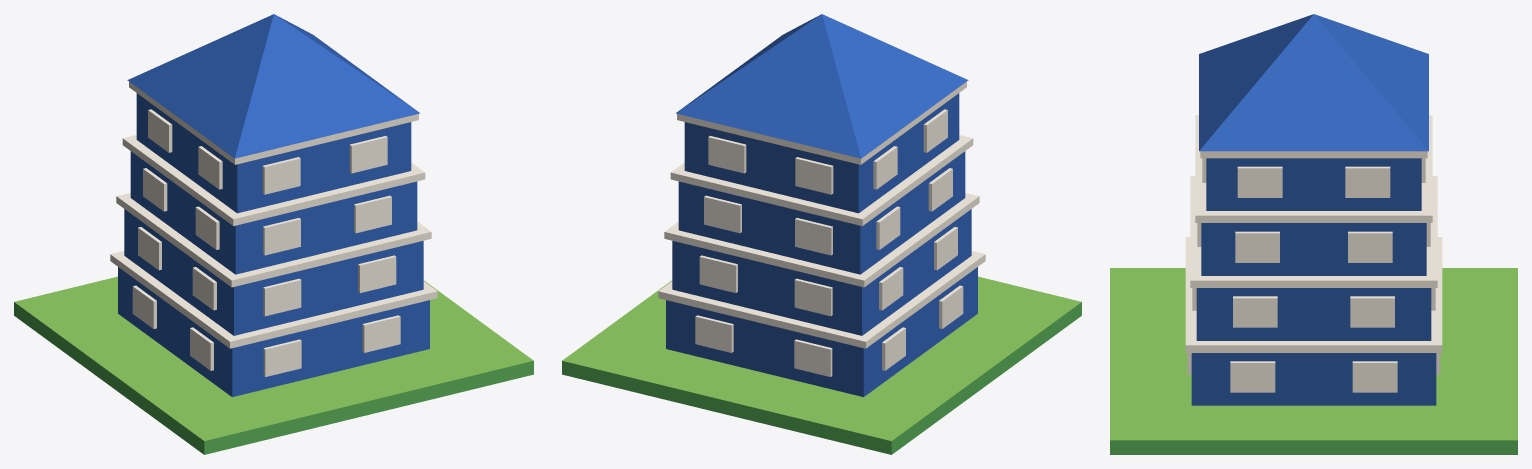
Rendered from skill_multiply_tower_t2.glb.
The picture shows the model from 3 angles, left to right: view 1: azimuth 30°, elevation 25°; view 2: azimuth 150°, elevation 25°; view 3: azimuth 270°, elevation 25°; orthographic projection. The views are drawn at different scales.
Parts seen in each view (by area): view 1: base, roof, floor_1, floor_2, floor_3, floor_4; view 2: base, roof, floor_1, floor_2, floor_3, floor_4; view 3: base, roof, floor_1, floor_2, floor_3, floor_4.
Boxes of the visible parts, x1,y1,x2,y2 form: base: [14, 276, 533, 454]; roof: [127, 14, 419, 158]; floor_1: [110, 251, 437, 397]; floor_2: [116, 193, 431, 335]; floor_3: [122, 135, 425, 274]; floor_4: [129, 81, 418, 213]; base: [562, 276, 1081, 454]; roof: [676, 14, 968, 158]; floor_1: [658, 251, 985, 397]; floor_2: [664, 193, 979, 335]; floor_3: [670, 135, 973, 274]; floor_4: [677, 81, 966, 213]; base: [1110, 268, 1517, 454]; roof: [1199, 14, 1428, 151]; floor_1: [1185, 237, 1442, 405]; floor_2: [1190, 176, 1437, 340]; floor_3: [1195, 115, 1432, 275]; floor_4: [1200, 151, 1427, 210].
Size of the model in its own units: 1 by 0.96 by 1.
